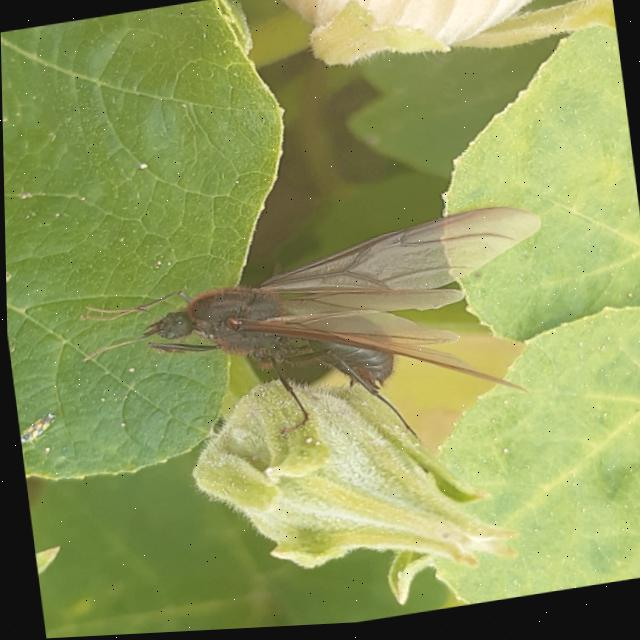Alive-Male-Alate: (69, 203, 565, 492)
